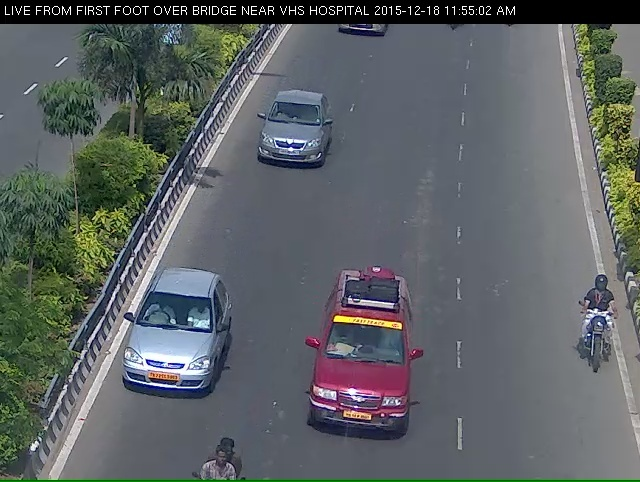Car: (296, 281, 416, 460), (106, 298, 234, 425), (248, 93, 326, 185), (324, 21, 396, 52)
Person: (570, 284, 625, 401)
